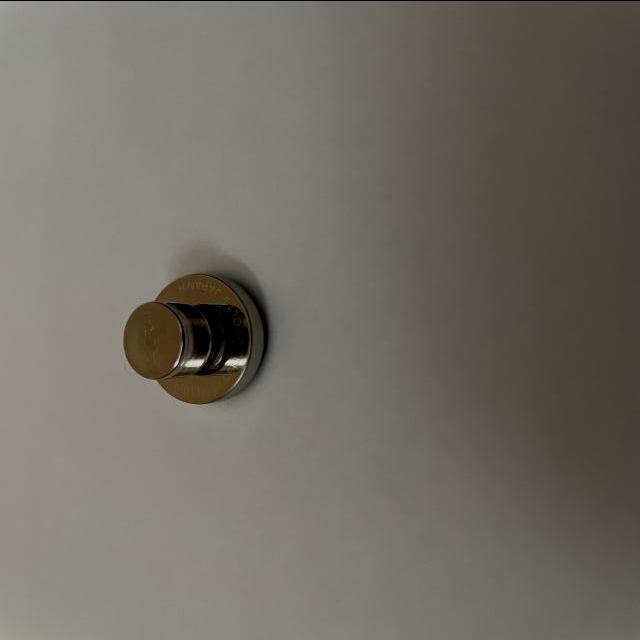COIN: (150, 269, 266, 406), (119, 300, 212, 380)
